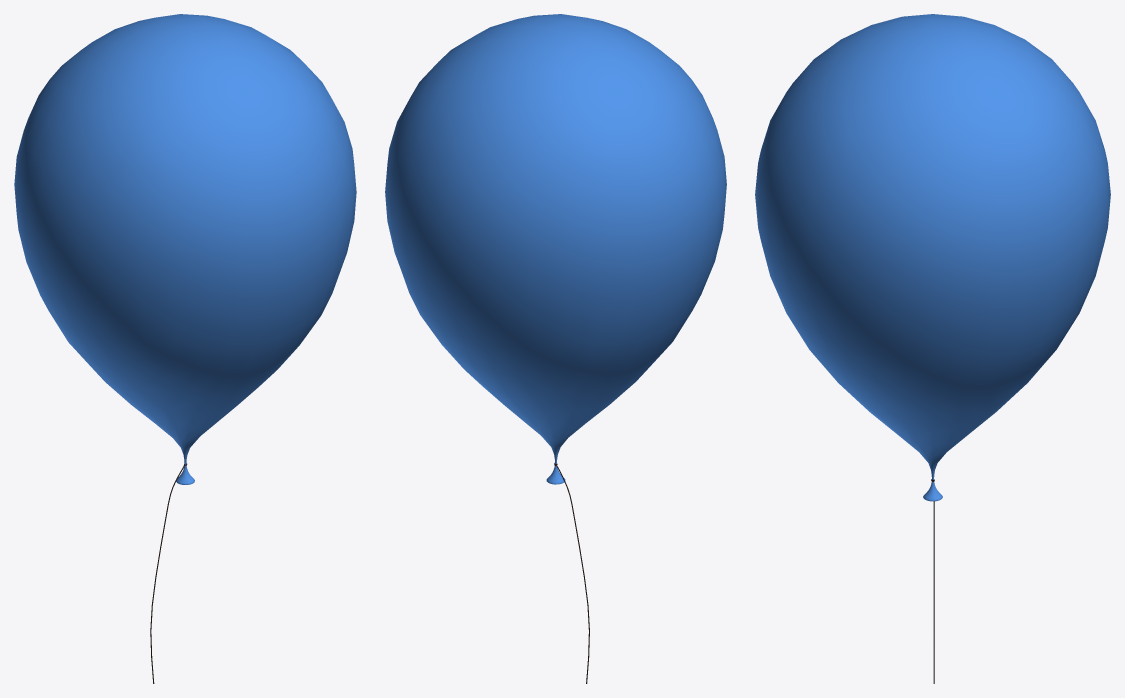
File: balloon.fbx
The picture shows the model from 3 angles, left to right: view 1: azimuth 30°, elevation 25°; view 2: azimuth 150°, elevation 25°; view 3: azimuth 270°, elevation 25°; orthographic projection. The views are drawn at different scales.
Parts seen in each view (by area): view 1: balloon; view 2: balloon; view 3: balloon.
Boxes of the visible parts, bbox=[...] form: balloon: bbox=[14, 14, 356, 683]; balloon: bbox=[385, 14, 726, 683]; balloon: bbox=[755, 14, 1110, 683].
Bounding box in the file's own units: 287 × 597 × 287.
